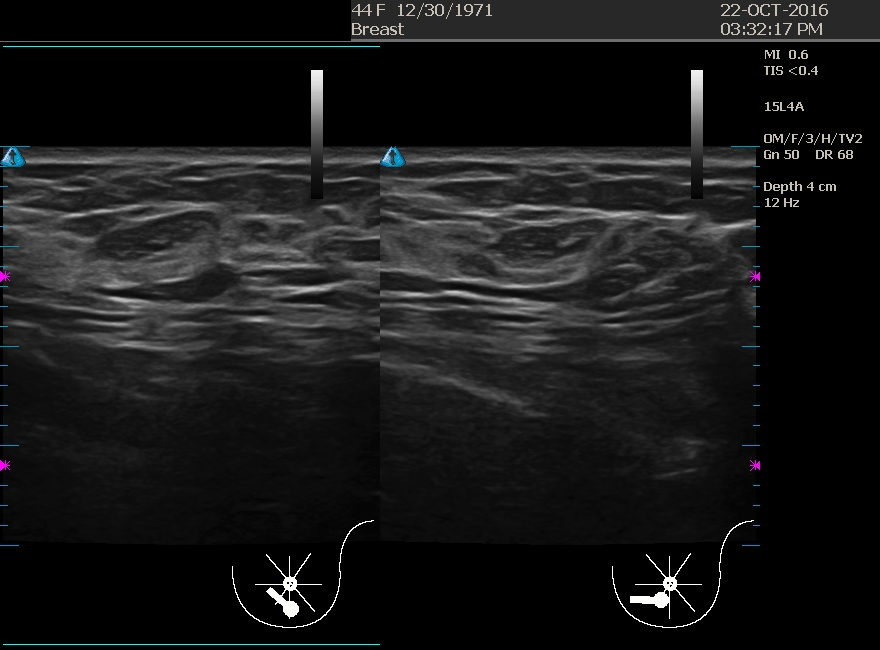BIRADS_2: (86, 152, 286, 352), (475, 154, 675, 354)
